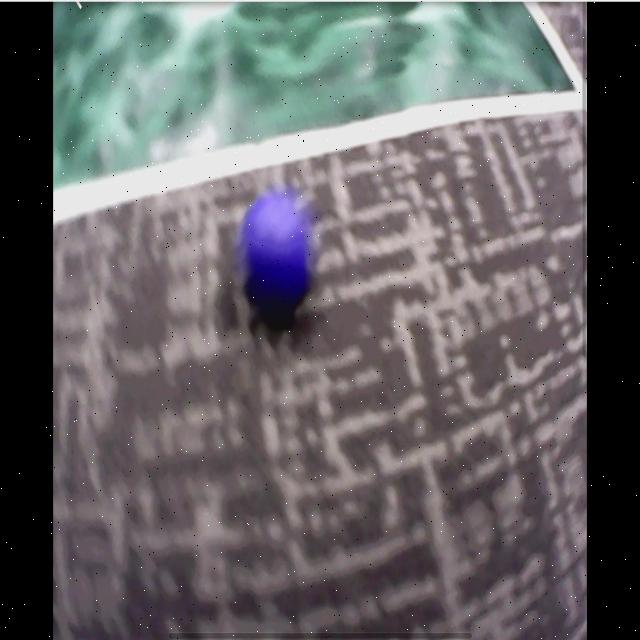ball: (246, 197, 309, 306)
